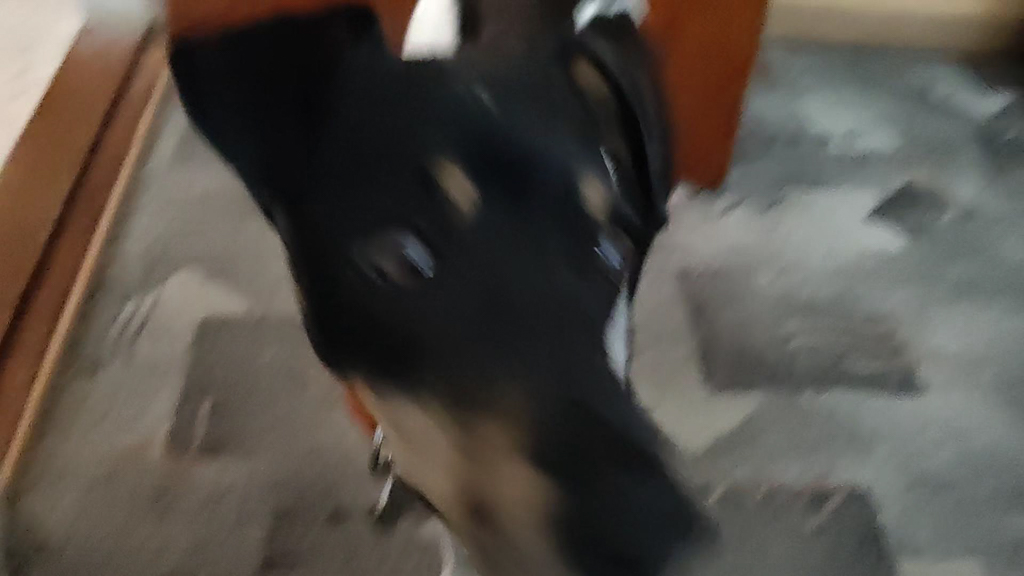Dog: (155, 0, 763, 576)
